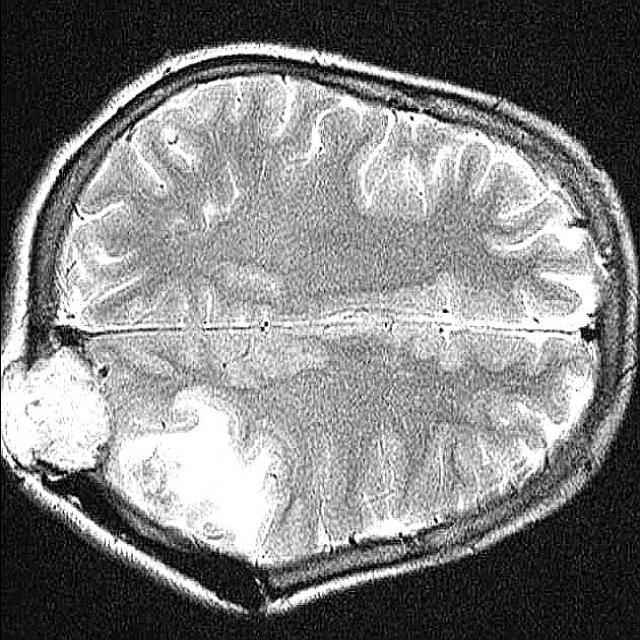tumor: (119, 398, 276, 563), (2, 345, 110, 473)
